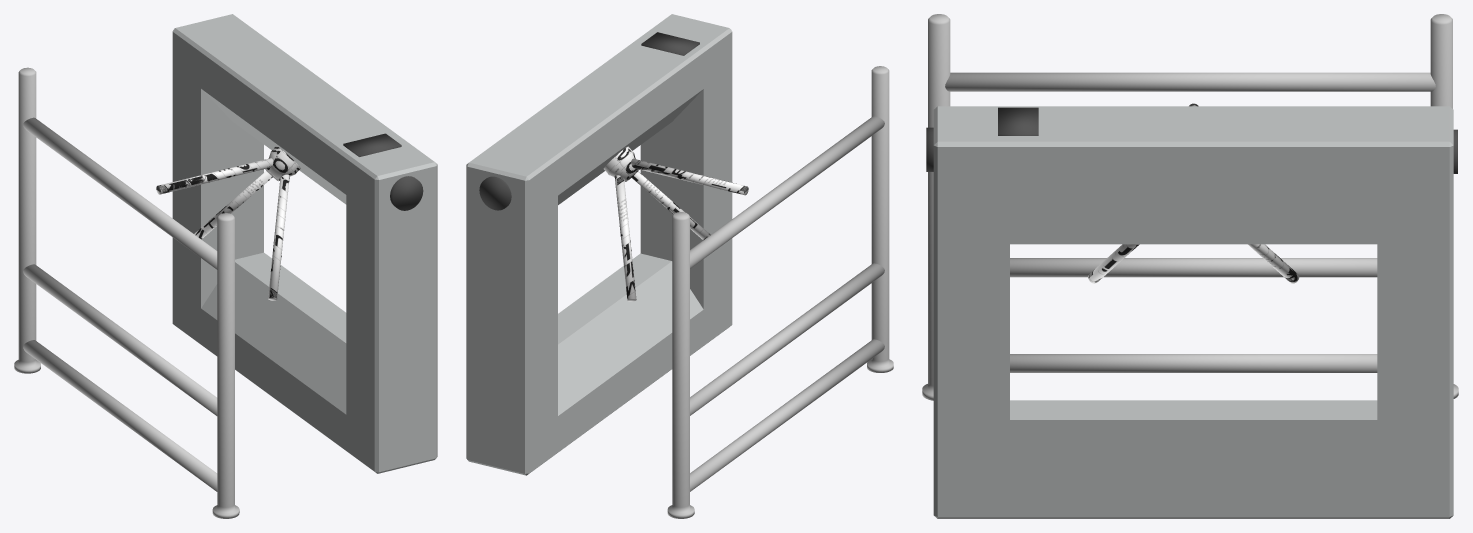
File: turnstile.fbx
3 renders of one model, left to right at view 1: azimuth 30°, elevation 25°; view 2: azimuth 150°, elevation 25°; view 3: azimuth 270°, elevation 25°, orthographic. The views are drawn at different scales.
Visible parts, largest first — view 1: Catraca, Protecao, BaseGiratoria; view 2: Catraca, Protecao, BaseGiratoria; view 3: Catraca, Protecao, BaseGiratoria.
Boxes of the visible parts, left/top/right/bottom form: Catraca: left=172, top=14, right=437, bottom=473; Protecao: left=14, top=67, right=239, bottom=518; BaseGiratoria: left=156, top=146, right=300, bottom=300; Catraca: left=466, top=14, right=732, bottom=475; Protecao: left=667, top=66, right=893, bottom=518; BaseGiratoria: left=603, top=146, right=748, bottom=301; Catraca: left=926, top=106, right=1457, bottom=518; Protecao: left=922, top=14, right=1458, bottom=400; BaseGiratoria: left=1088, top=103, right=1299, bottom=283.
Bounding box in the file's own units: 8132 × 10564 × 13410.
